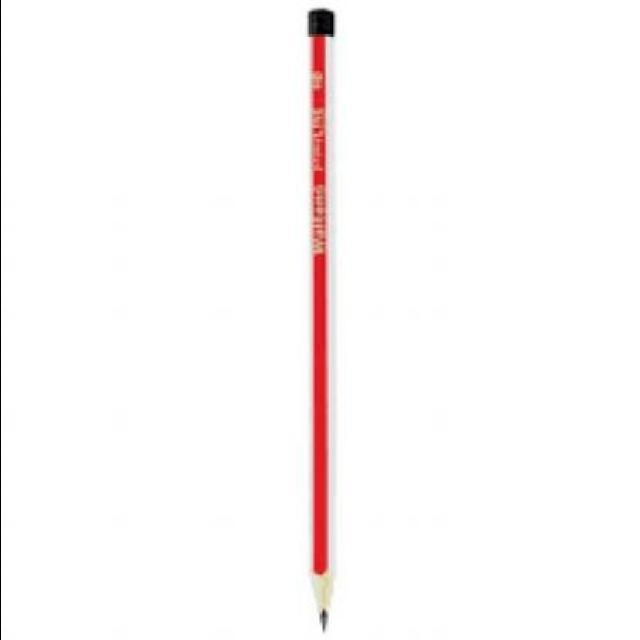Pencil: (281, 546, 350, 637)
